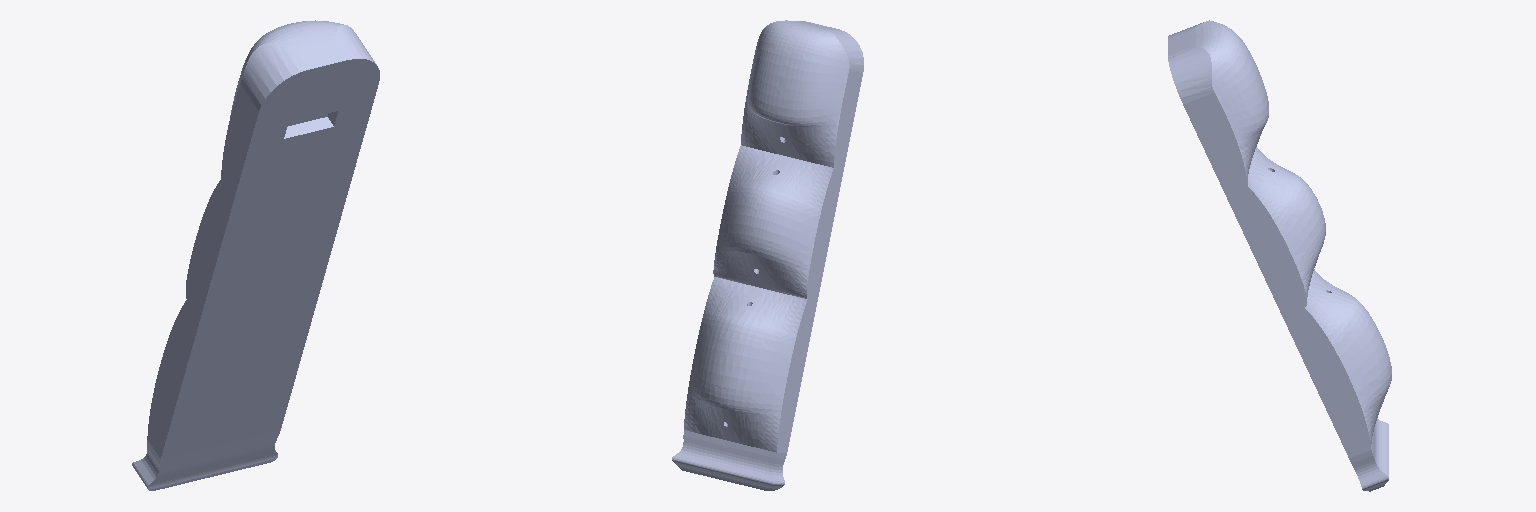
The robot description file, URDF, robot "gripper":
<?xml version="1.0" encoding="utf-8"?>
<!-- This URDF was automatically created by SolidWorks to URDF Exporter! Originally created by [author] ([email redacted]) 
     Commit Version: 1.6.0-4-g7f85cfe  Build Version: 1.6.7995.38578
     For more information, please see http://wiki.ros.org/sw_urdf_exporter -->
<robot
  name="gripper">
  <link
    name="base_link">
    <inertial>
      <origin
        xyz="-9.9221E-05 -0.0018613 -0.03661"
        rpy="0 0 0" />
      <mass
        value="0.28958" />
      <inertia
        ixx="0.00019685"
        ixy="2.3047E-07"
        ixz="-6.0829E-07"
        iyy="0.00010064"
        iyz="7.7606E-07"
        izz="0.00023082" />
    </inertial>
    <visual>
      <origin
        xyz="0 0 0"
        rpy="0 0 0" />
      <geometry>
        <mesh
          filename="package://gripper/meshes/base_link.STL" />
      </geometry>
      <material
        name="">
        <color
          rgba="0.79216 0.81961 0.93333 1" />
      </material>
    </visual>
    <collision>
      <origin
        xyz="0 0 0"
        rpy="0 0 0" />
      <geometry>
        <mesh
          filename="package://gripper/meshes/base_link.STL" />
      </geometry>
    </collision>
  </link>
  <link
    name="thumb_1">
    <inertial>
      <origin
        xyz="2.6455E-07 0.043188 -0.043887"
        rpy="0 0 0" />
      <mass
        value="0.037019" />
      <inertia
        ixx="5.4009E-06"
        ixy="1.033E-11"
        ixz="1.696E-11"
        iyy="4.3501E-06"
        iyz="1.9961E-06"
        izz="4.1256E-06" />
    </inertial>
    <visual>
      <origin
        xyz="0 0 0"
        rpy="0 0 0" />
      <geometry>
        <mesh
          filename="package://gripper/meshes/thumb_1.STL" />
      </geometry>
      <material
        name="">
        <color
          rgba="0.79216 0.81961 0.93333 1" />
      </material>
    </visual>
    <collision>
      <origin
        xyz="0 0 0"
        rpy="0 0 0" />
      <geometry>
        <mesh
          filename="package://gripper/meshes/thumb_1.STL" />
      </geometry>
    </collision>
  </link>
  <joint
    name="thumb_joint"
    type="revolute">
    <origin
      xyz="0 0.045195 0.013956"
      rpy="2.7397 0 -3.1416" />
    <parent
      link="base_link" />
    <child
      link="thumb_1" />
    <axis
      xyz="-1 0 0" />
    <limit
      lower="0"
      upper="0"
      effort="0"
      velocity="0" />
  </joint>
  <link
    name="fing_1">
    <inertial>
      <origin
        xyz="4.6591E-08 0.0003852 0.045879"
        rpy="0 0 0" />
      <mass
        value="0.023872" />
      <inertia
        ixx="2.3287E-06"
        ixy="-3.8578E-12"
        ixz="1.8688E-12"
        iyy="3.018E-06"
        iyz="-9.0604E-08"
        izz="1.2808E-06" />
    </inertial>
    <visual>
      <origin
        xyz="0 0 0"
        rpy="0 0 0" />
      <geometry>
        <mesh
          filename="package://gripper/meshes/fing_1.STL" />
      </geometry>
      <material
        name="">
        <color
          rgba="0.79216 0.81961 0.93333 1" />
      </material>
    </visual>
    <collision>
      <origin
        xyz="0 0 0"
        rpy="0 0 0" />
      <geometry>
        <mesh
          filename="package://gripper/meshes/fing_1.STL" />
      </geometry>
    </collision>
  </link>
  <joint
    name="fing_1_joint"
    type="revolute">
    <origin
      xyz="0.018 -0.045195 0.013956"
      rpy="0.40187 0 0" />
    <parent
      link="base_link" />
    <child
      link="fing_1" />
    <axis
      xyz="-1 0 0" />
    <limit
      lower="0"
      upper="0"
      effort="0"
      velocity="0" />
  </joint>
  <link
    name="fing_2">
    <inertial>
      <origin
        xyz="4.7008E-08 0.0003852 0.045879"
        rpy="0 0 0" />
      <mass
        value="0.023872" />
      <inertia
        ixx="2.3287E-06"
        ixy="-3.9096E-12"
        ixz="1.8436E-12"
        iyy="3.018E-06"
        iyz="-9.0604E-08"
        izz="1.2808E-06" />
    </inertial>
    <visual>
      <origin
        xyz="0 0 0"
        rpy="0 0 0" />
      <geometry>
        <mesh
          filename="package://gripper/meshes/fing_2.STL" />
      </geometry>
      <material
        name="">
        <color
          rgba="0.79216 0.81961 0.93333 1" />
      </material>
    </visual>
    <collision>
      <origin
        xyz="0 0 0"
        rpy="0 0 0" />
      <geometry>
        <mesh
          filename="package://gripper/meshes/fing_2.STL" />
      </geometry>
    </collision>
  </link>
  <joint
    name="fing_2_joint"
    type="revolute">
    <origin
      xyz="-0.018 -0.045195 0.013956"
      rpy="0.40187 0 0" />
    <parent
      link="base_link" />
    <child
      link="fing_2" />
    <axis
      xyz="-1 0 0" />
    <limit
      lower="0"
      upper="0"
      effort="0"
      velocity="0" />
  </joint>
</robot>

--- Facts derived from the render (not from the file) ---
The picture shows the robot from 3 angles, left to right: view 1: azimuth 30°, elevation 25°; view 2: azimuth 150°, elevation 25°; view 3: azimuth 270°, elevation 25°; orthographic projection.
Model gripper with 4 links and 3 joints (3 revolute), rooted at base_link, posed all joints at 0.
Links seen in each view (by area): view 1: fing_1; view 2: fing_1; view 3: fing_1.
Boxes of the visible links, <box> form: fing_1: <box>132,20,379,490</box>; fing_1: <box>672,20,863,490</box>; fing_1: <box>1168,20,1391,491</box>.
Bounding box of the posed robot: 0.026 × 0.046 × 0.0987 m (x, y, z).
Meshes: 4 distinct files referenced, 1 mesh visuals loaded (1 binary STL); not drawn: 3 (reference not matched to a file when rendering).